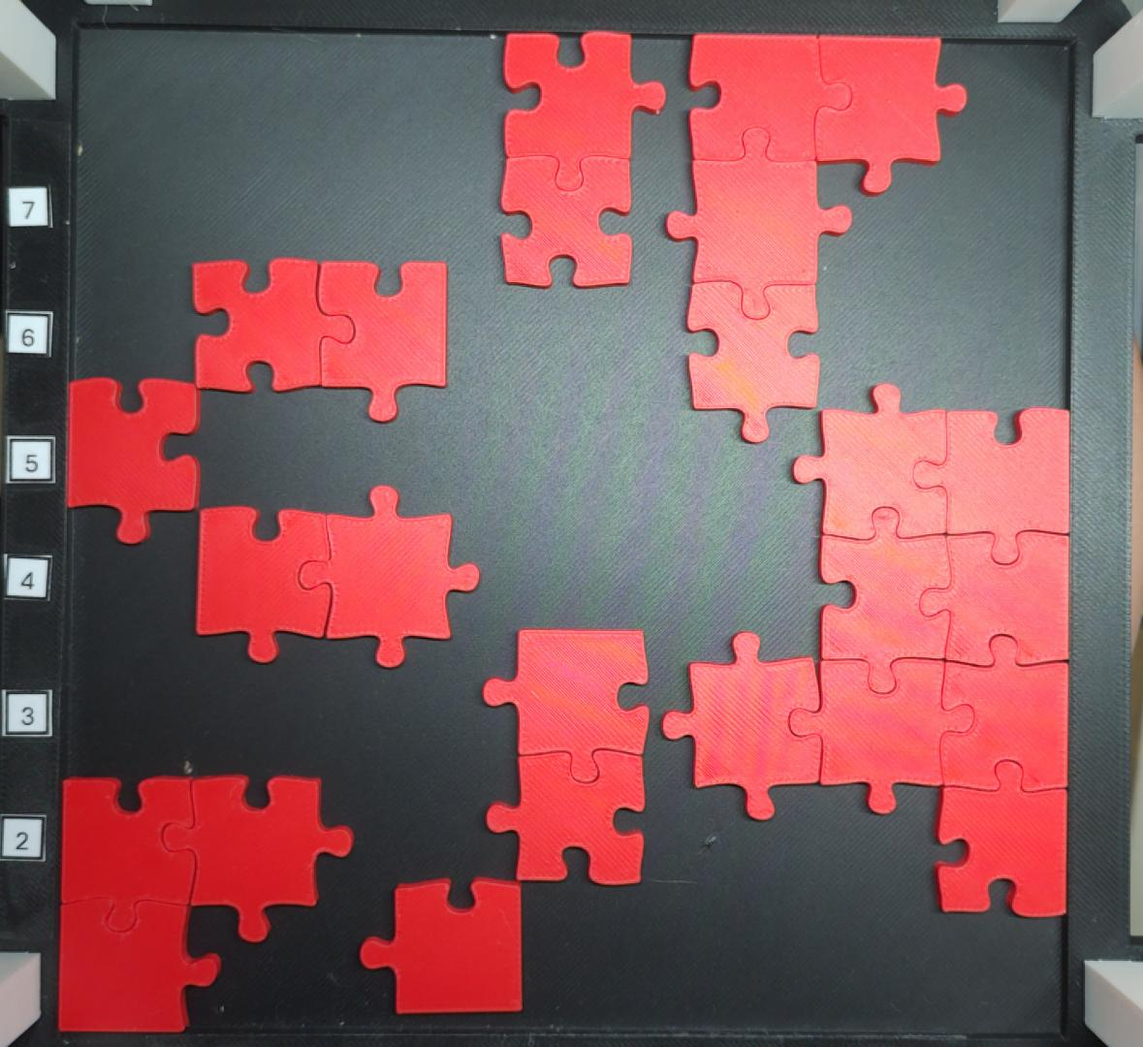p_1: (64, 377, 201, 544), (360, 877, 524, 1014)
p_2: (192, 484, 481, 670), (191, 258, 453, 426), (486, 627, 651, 888), (501, 33, 668, 287)
p_3: (57, 773, 355, 1032)
p_4: (666, 33, 968, 441)
p_m: (662, 384, 1070, 920)
